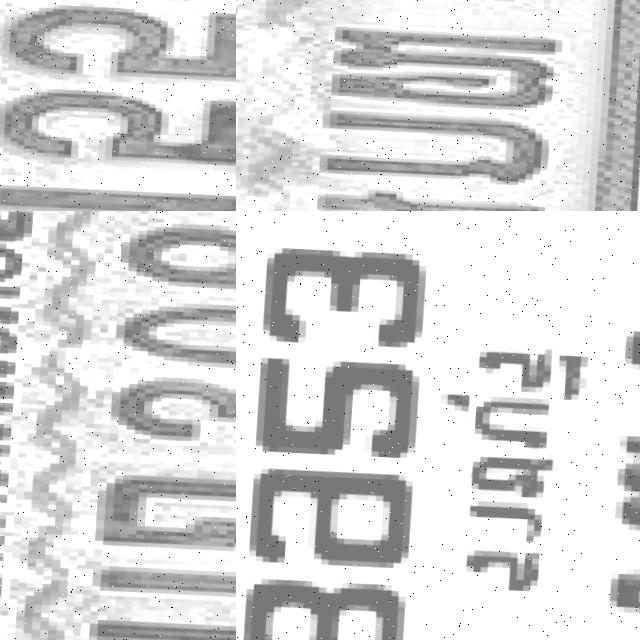license-plate: (236, 211, 640, 640), (0, 211, 236, 640), (236, 0, 640, 211), (0, 0, 236, 211)
